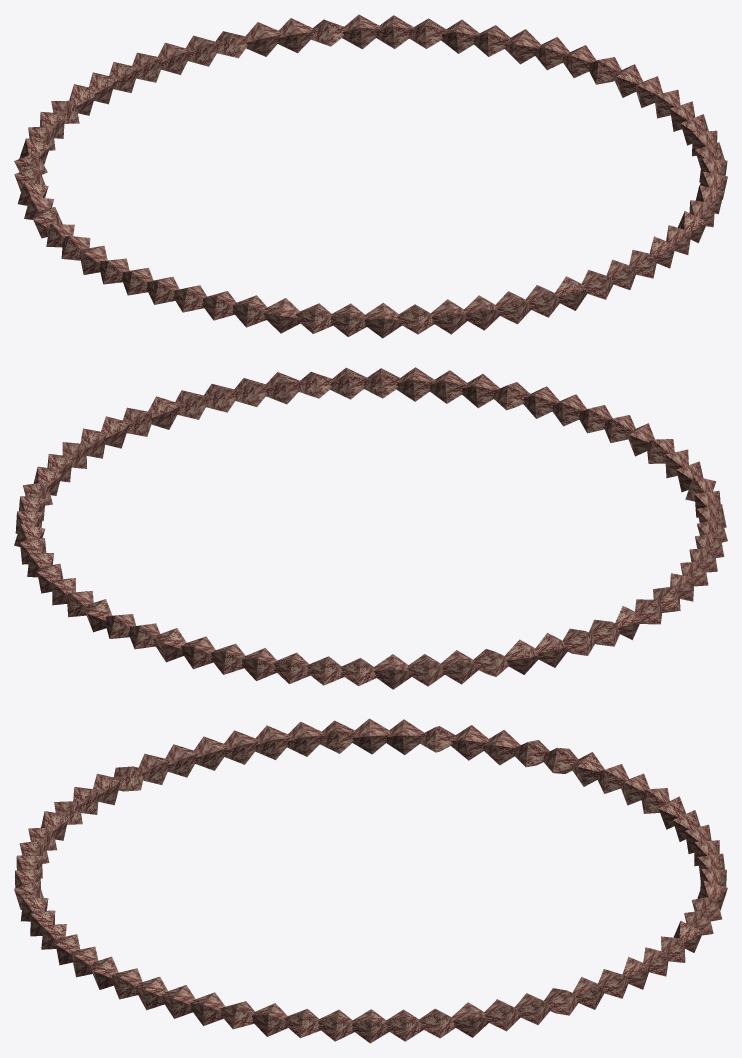
The model's file is END_TELEPORTER001.001.glb.
The picture shows the model from 3 angles, top to bottom: view 1: azimuth 30°, elevation 25°; view 2: azimuth 150°, elevation 25°; view 3: azimuth 270°, elevation 25°; orthographic projection.
Visible parts, largest first — view 1: END_TELEPORTER001.001; view 2: END_TELEPORTER001.001; view 3: END_TELEPORTER001.001.
Part boxes in pixels (x1,y1,x2,y2): END_TELEPORTER001.001: (14, 14, 727, 338); END_TELEPORTER001.001: (14, 367, 727, 689); END_TELEPORTER001.001: (14, 718, 727, 1043).
Size of the model in its own units: 41.72 by 1.98 by 41.66.
Materials: 1 (1 with a texture image).
